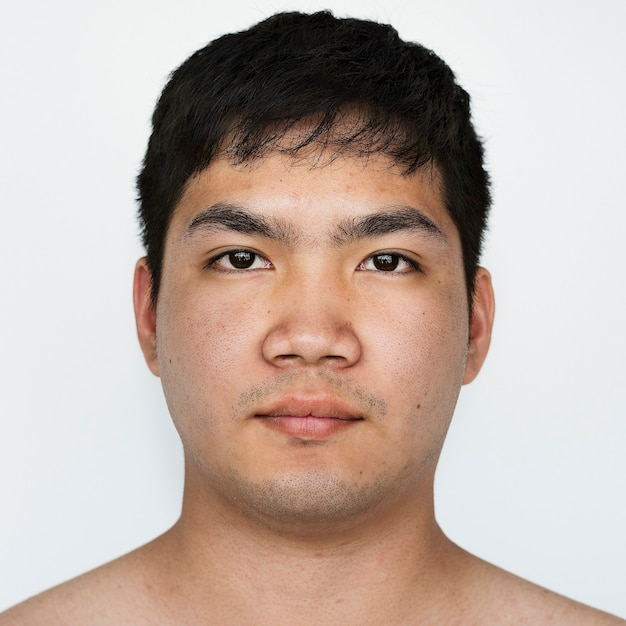teen: (137, 44, 505, 516)
